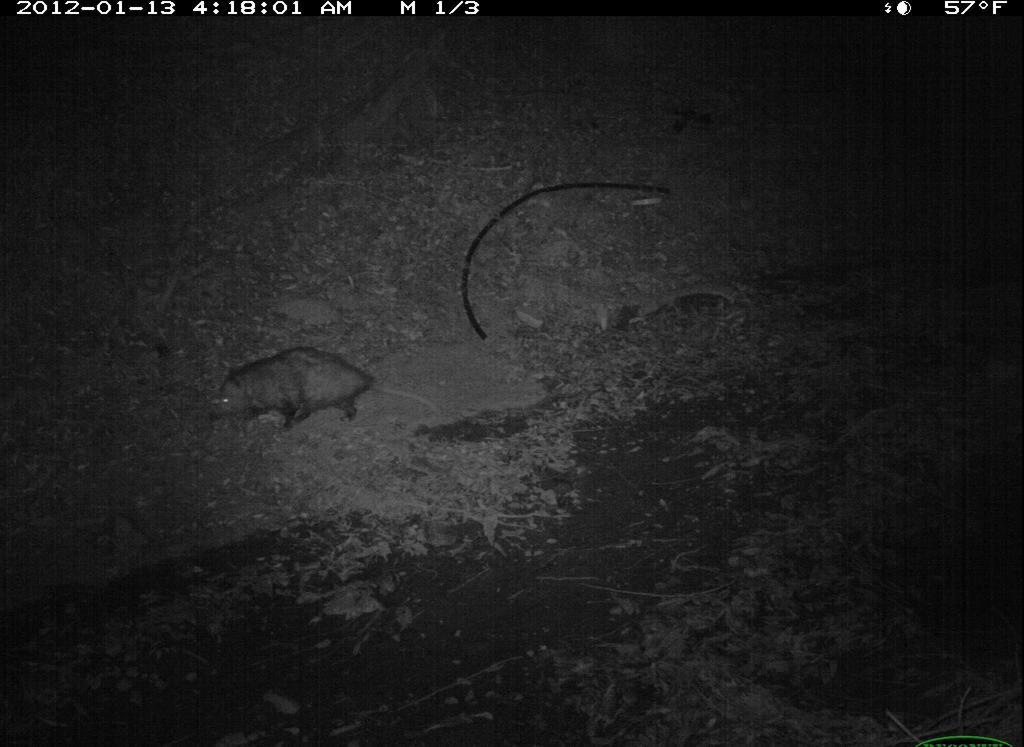opossum: (208, 336, 457, 472)
